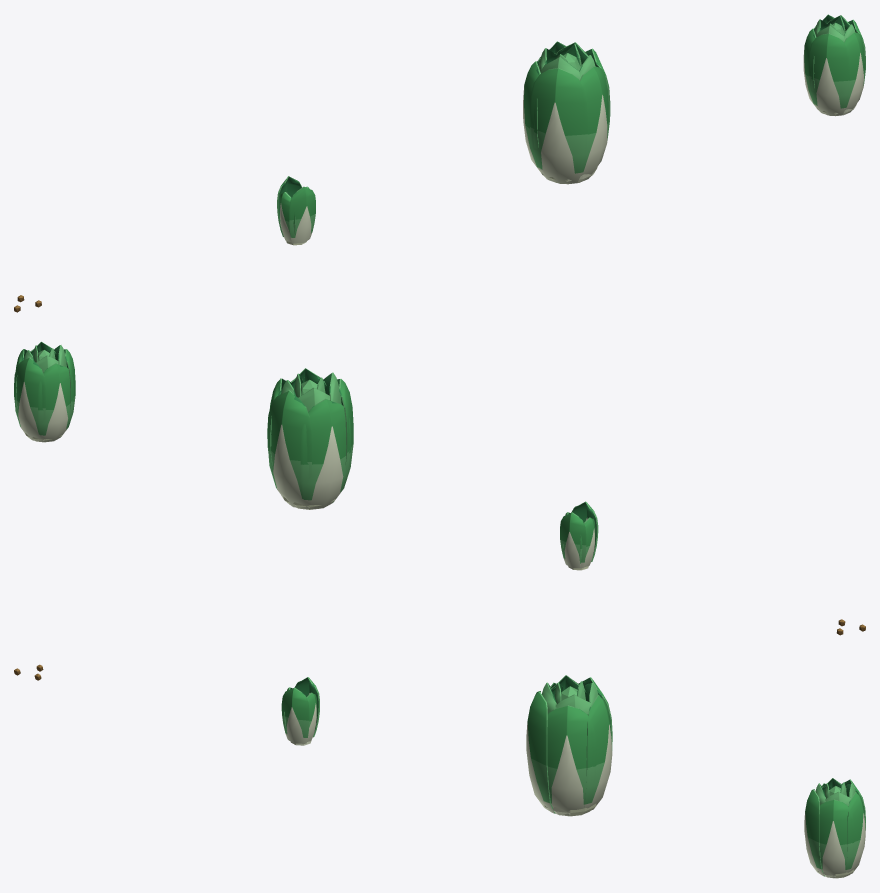
3 views of the same model, one above another, from view 1: azimuth 30°, elevation 25°; view 2: azimuth 150°, elevation 25°; view 3: azimuth 330°, elevation 25° (orthographic).
Visible parts, largest first — view 1: P_3, P_4, P_2; view 2: P_3, P_4, P_2; view 3: P_3, P_4, P_2.
Part boxes in pixels (x1,y1,x2,y2): P_3: [523, 41, 610, 184]; P_4: [803, 14, 865, 116]; P_2: [277, 176, 315, 245]; P_3: [267, 368, 353, 509]; P_4: [14, 341, 75, 442]; P_2: [560, 501, 598, 570]; P_3: [526, 675, 612, 816]; P_4: [804, 778, 865, 878]; P_2: [281, 677, 319, 745].
Bounding box in the file's own units: 315 × 45 × 28.01.
